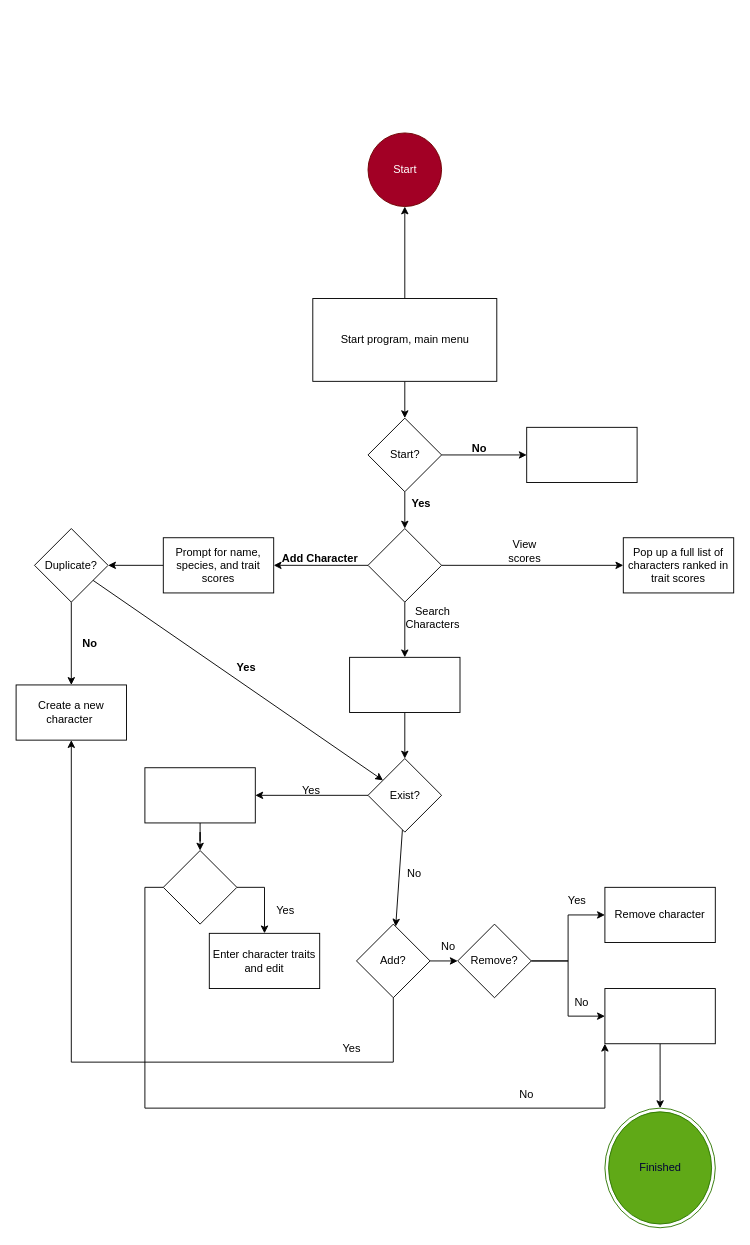
The diagram is 750 pixels wide and 1245 high, and some of its shapes have lost their labels. Here are the shapes that lost their labels. From the top down, the centre of each, then its label:
At (x=581, y=454): "Shut down".
At (x=404, y=565): "Which Section?".
At (x=404, y=684): "Prompt for name and species".
At (x=199, y=795): "List in order of greatest to least trait scores and display".
At (x=199, y=887): "Edit?".
At (x=659, y=1016): "Back to main page".
